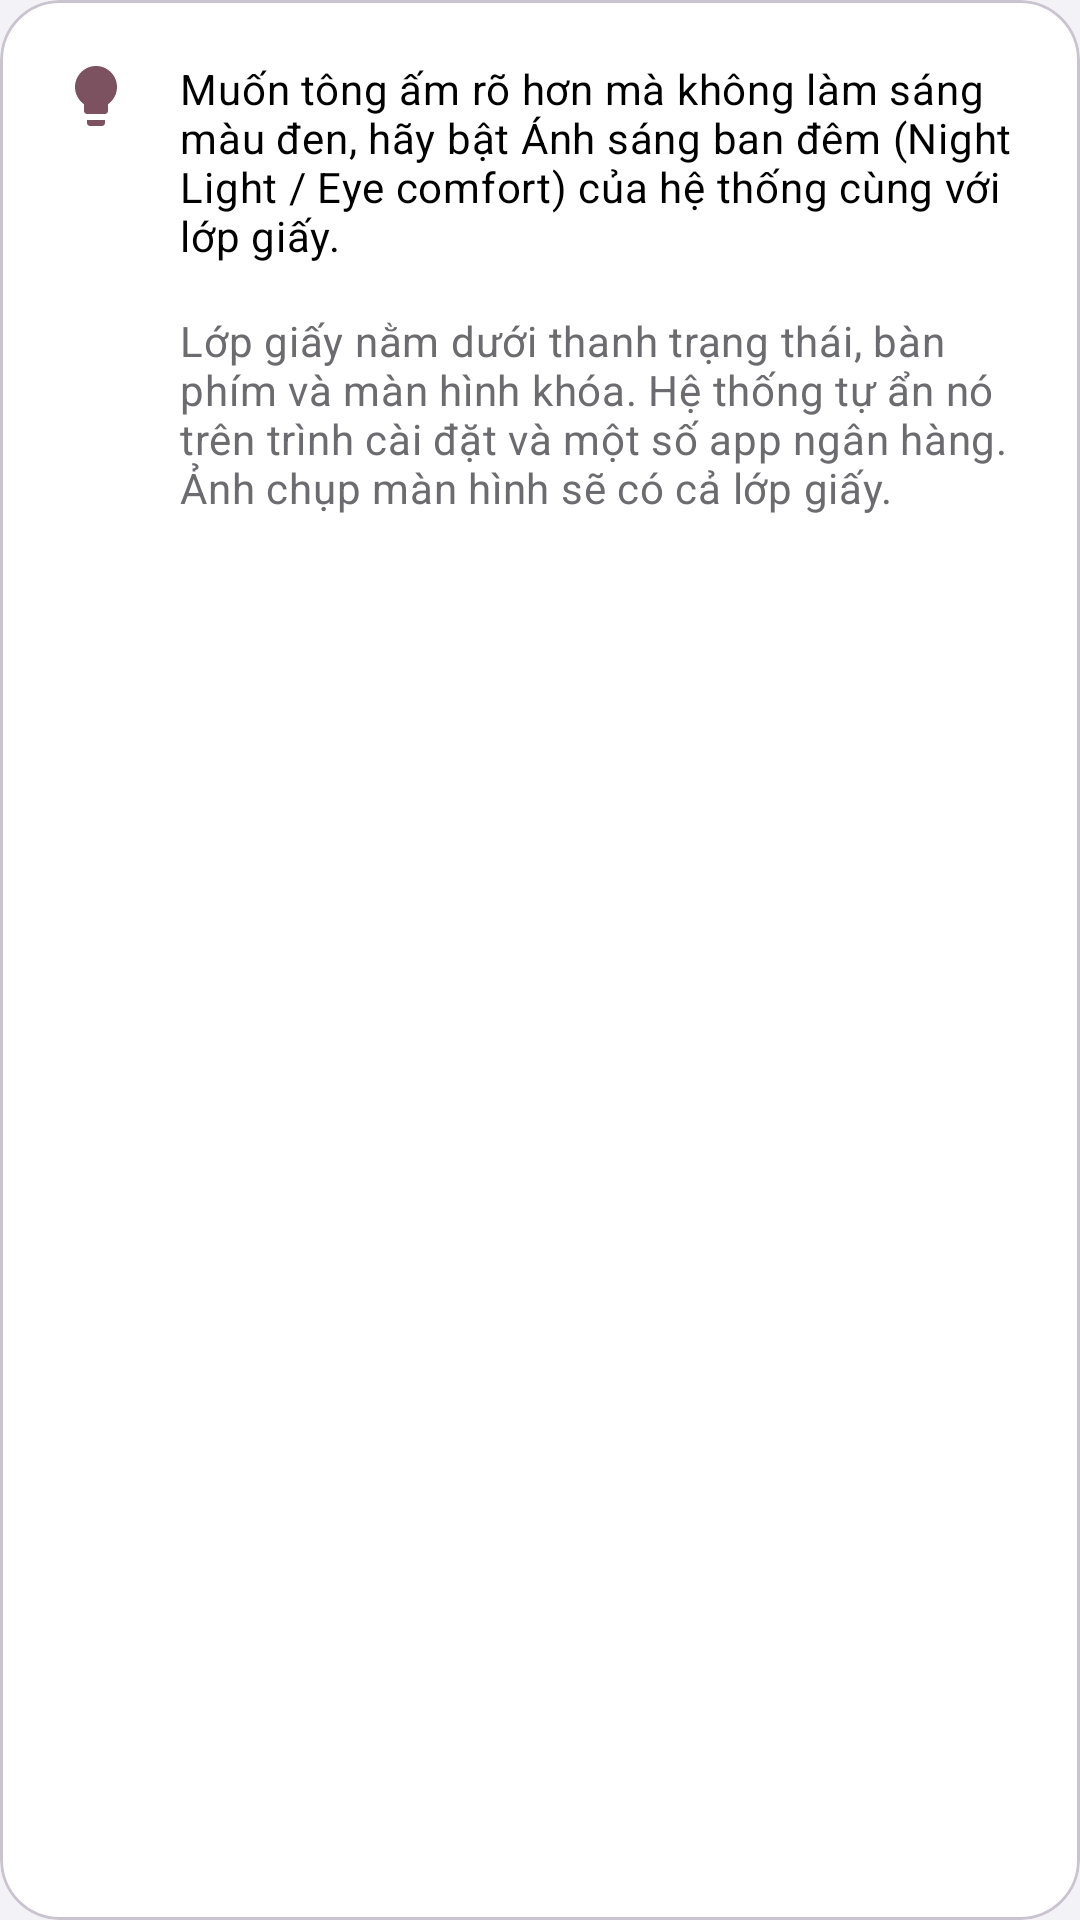

Icon bounding boxes for this 1080×1920 phone screenshot, format rect(x1, y1, x2, y2):
lightbulb: rect(75, 66, 117, 126)
